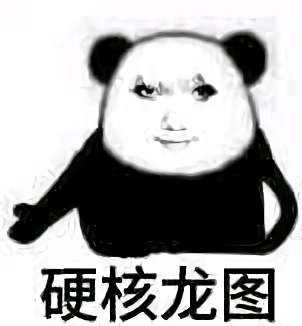dragon: (127, 72, 225, 152)
